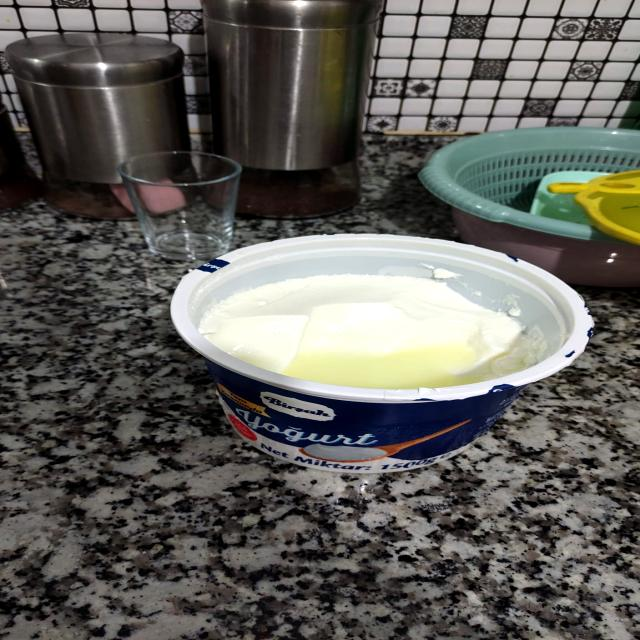yogurt: (166, 239, 596, 466)
